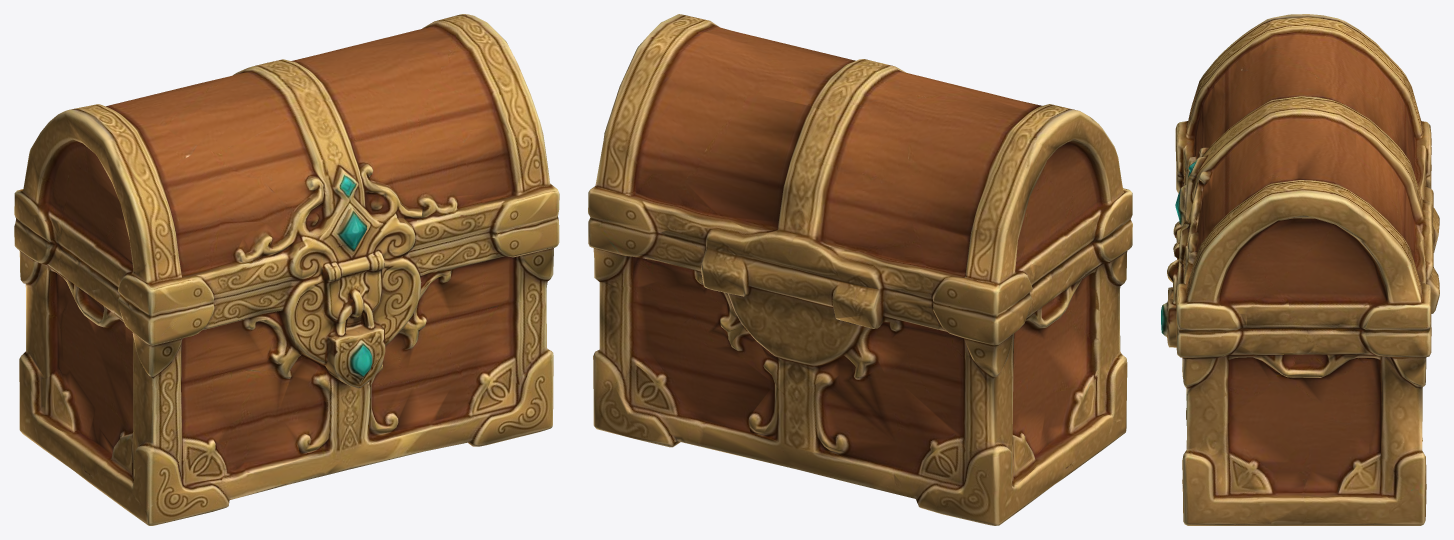
The model's file is chest.glb.
3 views of the same model, side by side, from view 1: azimuth 30°, elevation 25°; view 2: azimuth 150°, elevation 25°; view 3: azimuth 270°, elevation 25° (orthographic). The views are drawn at different scales.
Visible parts, largest first — view 1: Mesh_0; view 2: Mesh_0; view 3: Mesh_0.
Part boxes in pixels (left/top/right/bottom): Mesh_0: left=14, top=14, right=559, bottom=525; Mesh_0: left=588, top=14, right=1132, bottom=525; Mesh_0: left=1161, top=14, right=1439, bottom=525.
Size of the model in its own units: 1.9 by 1.59 by 1.2.
Materials: 1 (1 with a texture image).
